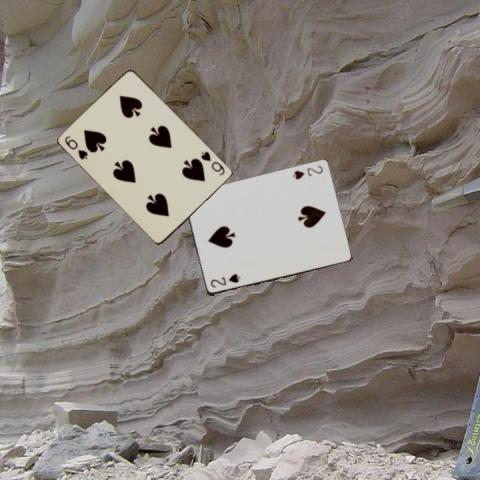2s: (208, 271, 242, 290), (289, 163, 324, 181)
6s: (198, 148, 227, 177), (62, 132, 89, 161)
